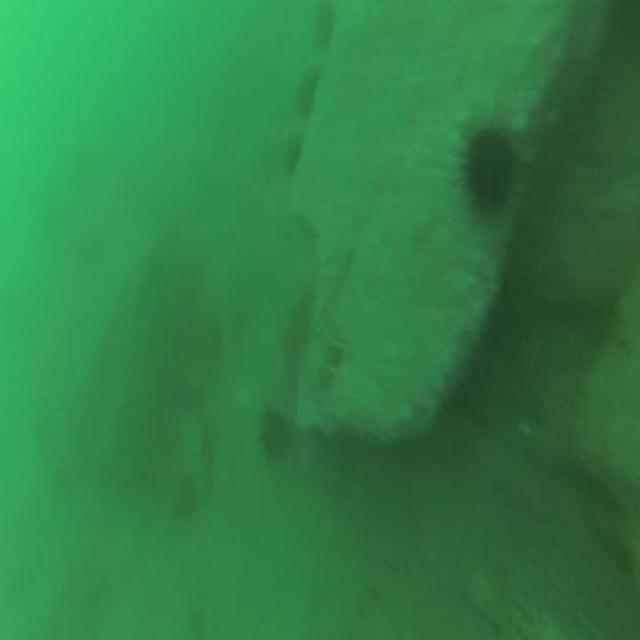echinus: (450, 109, 527, 229), (252, 403, 294, 463), (279, 126, 305, 186), (295, 65, 322, 118), (311, 12, 339, 48)
